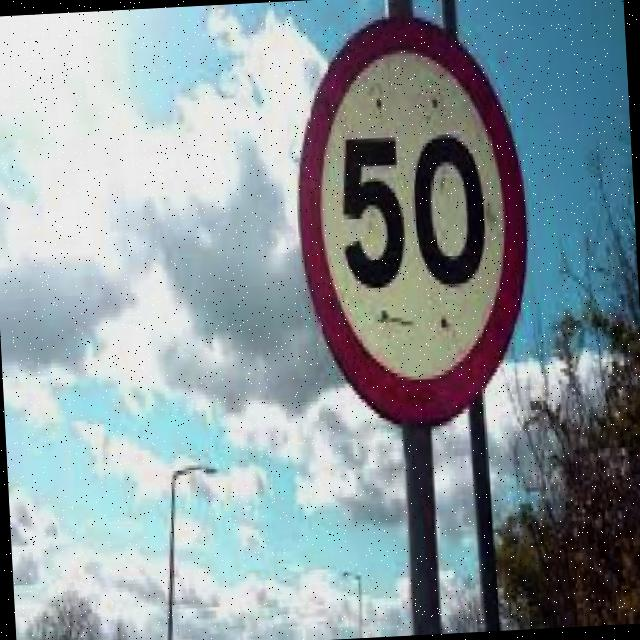Ograniczenie predkosci do 50: (292, 12, 540, 448)
